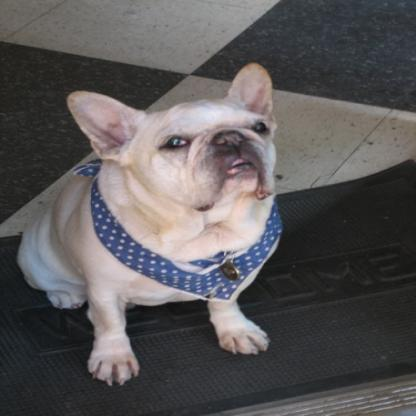French_bulldog: (12, 59, 285, 387)
